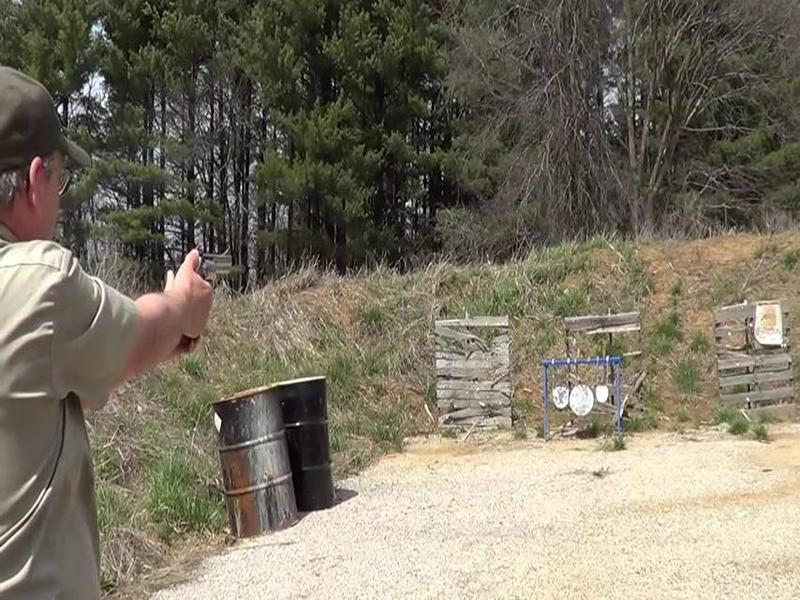Revolver: (155, 231, 239, 312)
